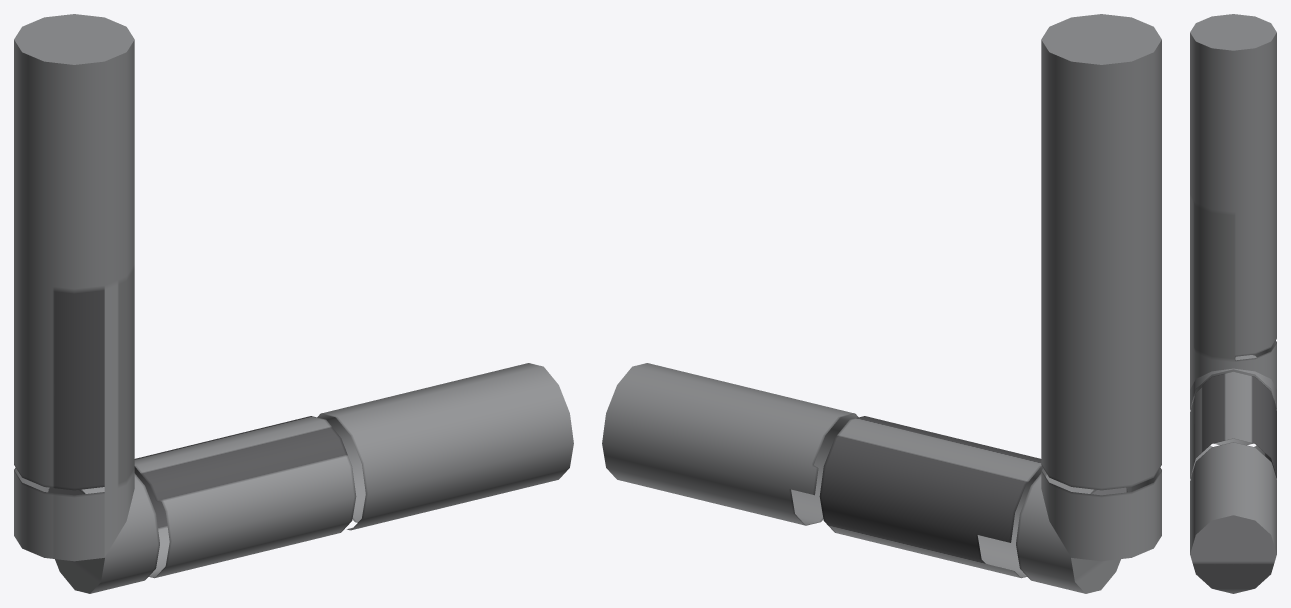
3 views of the same model, side by side, from view 1: azimuth 30°, elevation 25°; view 2: azimuth 150°, elevation 25°; view 3: azimuth 270°, elevation 25° (orthographic). The views are drawn at different scales.
Size of the model in its own units: 0.968 by 0.9772 by 0.194.
